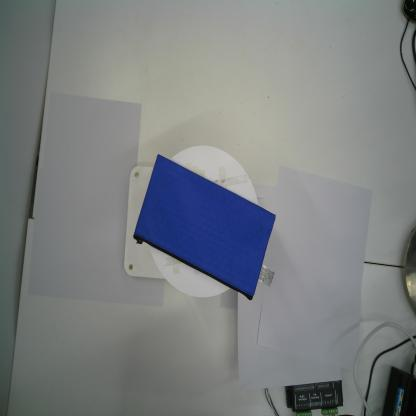Stationery: (132, 154, 276, 301)
